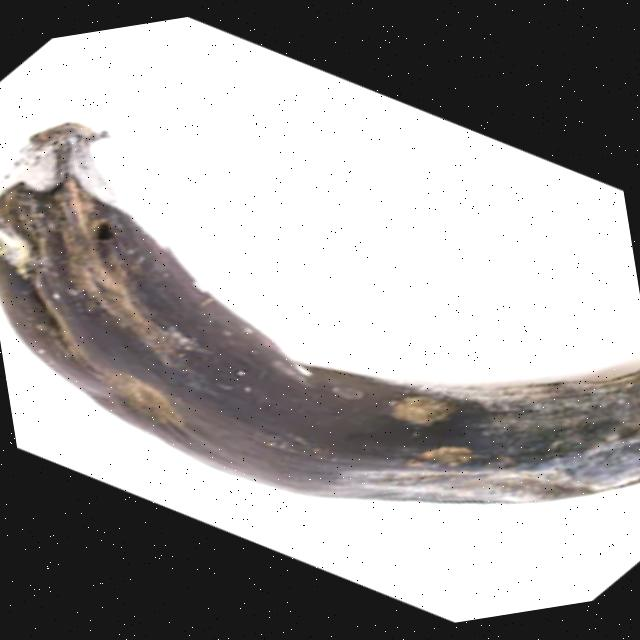Rotten: (0, 38, 640, 583)
